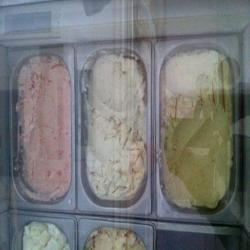icecream: (159, 46, 235, 217), (81, 50, 148, 211), (11, 52, 78, 204), (13, 215, 69, 250), (81, 222, 145, 250)
